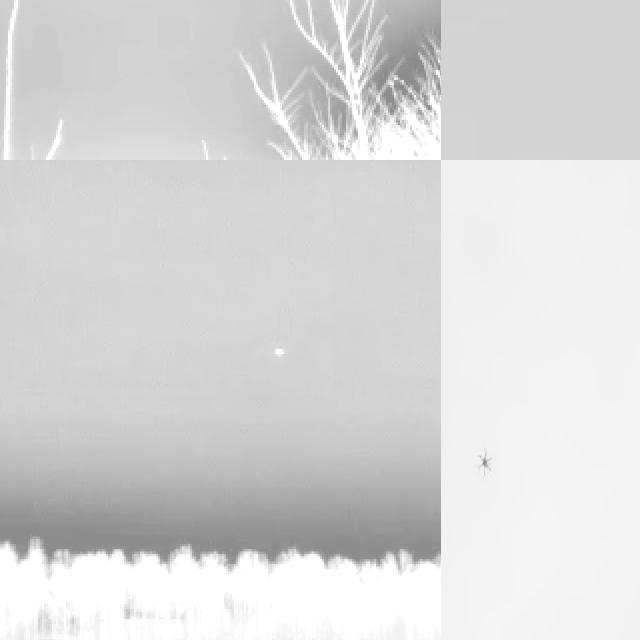1: (259, 338, 291, 372)
drone: (472, 441, 497, 479)
